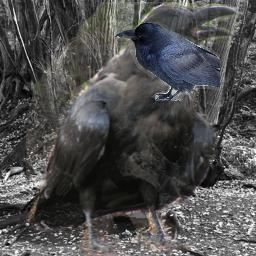Crow: (26, 2, 239, 256), (115, 22, 220, 101)
